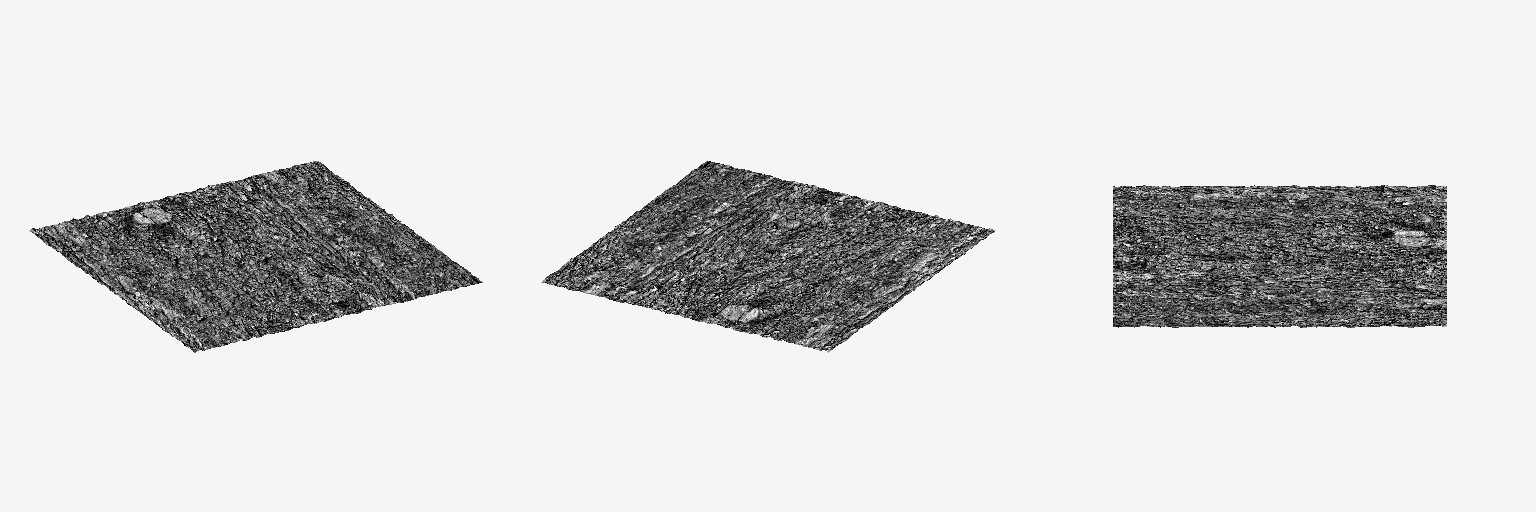
3 views of the same model, side by side, from view 1: azimuth 30°, elevation 25°; view 2: azimuth 150°, elevation 25°; view 3: azimuth 270°, elevation 25° (orthographic).
Parts seen in each view (by area): view 1: woodHeight_Plane.007; view 2: woodHeight_Plane.007; view 3: woodHeight_Plane.007.
Boxes of the visible parts, x1=… form: woodHeight_Plane.007: x1=29, y1=161, x2=482, y2=352; woodHeight_Plane.007: x1=541, y1=161, x2=994, y2=352; woodHeight_Plane.007: x1=1113, y1=185, x2=1446, y2=327.
Bounding box in the file's own units: 2 × 0.025 × 2.
1 materials, 1 textured.